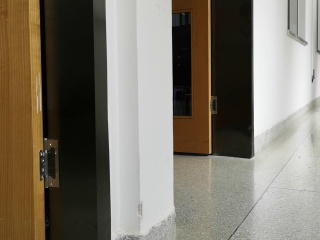room: (2, 1, 115, 238), (169, 2, 257, 165)
